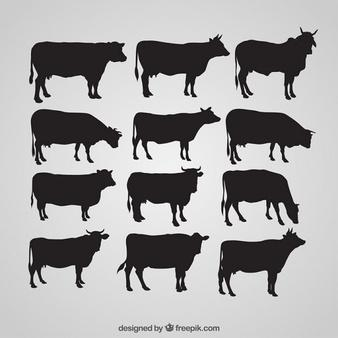cow: (216, 225, 307, 298), (135, 33, 229, 99), (235, 27, 319, 100), (29, 40, 127, 100), (117, 232, 210, 292), (225, 108, 318, 166), (30, 108, 124, 164), (28, 226, 110, 289), (131, 106, 223, 161), (126, 163, 205, 227), (219, 168, 300, 227), (30, 167, 117, 221)
